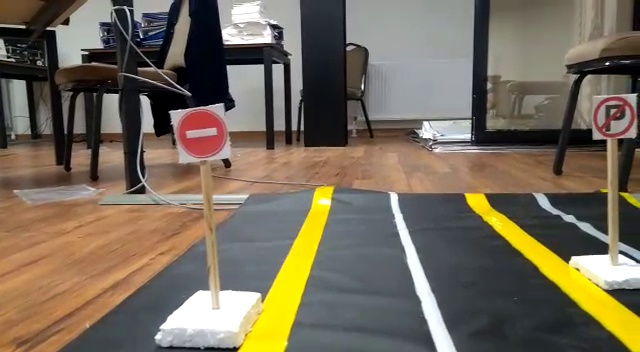girisi_olmayan_yol: (169, 105, 230, 158)
park_yapilmaz: (587, 94, 638, 140)
